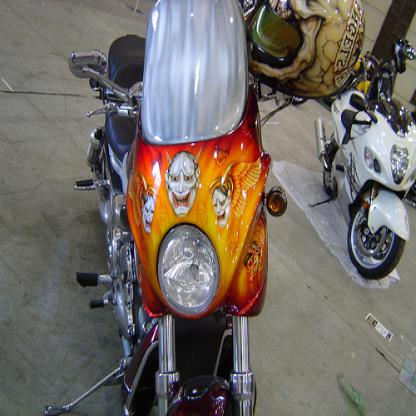motorbike: (45, 34, 314, 416), (308, 89, 416, 281)
